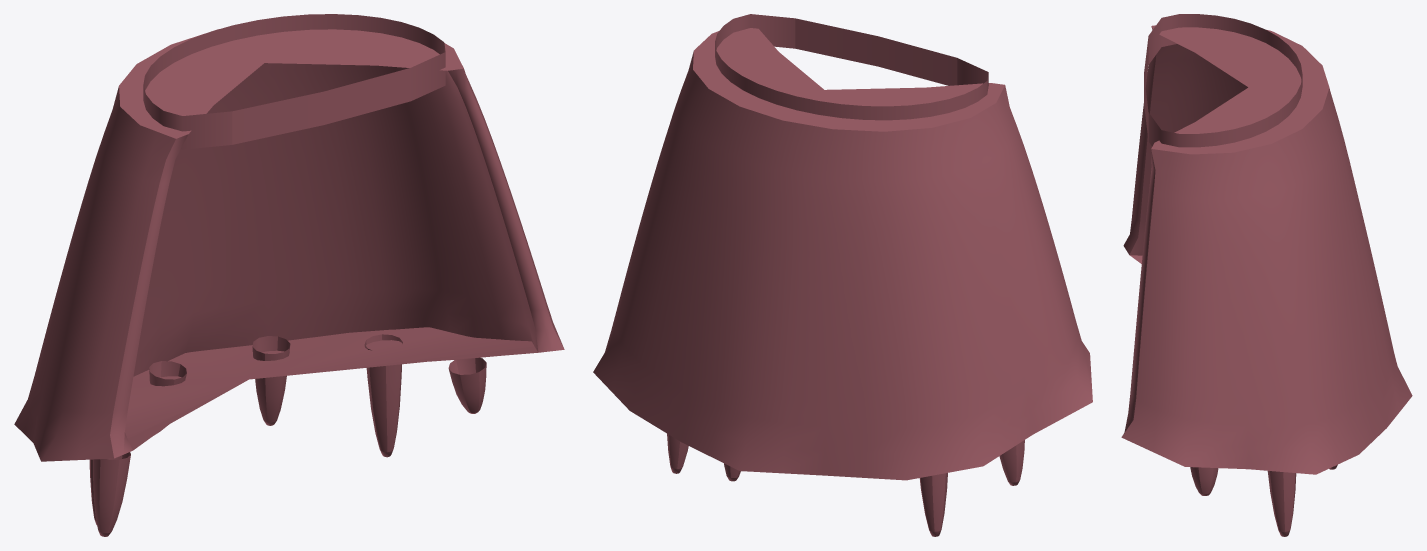
File: cape_tattered.glb
3 renders of one model, left to right at view 1: azimuth 30°, elevation 25°; view 2: azimuth 150°, elevation 25°; view 3: azimuth 270°, elevation 25°, orthographic. The views are drawn at different scales.
Visible parts, largest first — view 1: cape_tattered; view 2: cape_tattered; view 3: cape_tattered.
Part boxes in pixels (box(x1,y1,x2,y2)): cape_tattered: box(14, 14, 564, 536); cape_tattered: box(593, 14, 1092, 536); cape_tattered: box(1121, 14, 1412, 536).
Bounding box in the file's own units: 0.7727 × 0.656 × 0.4313.
